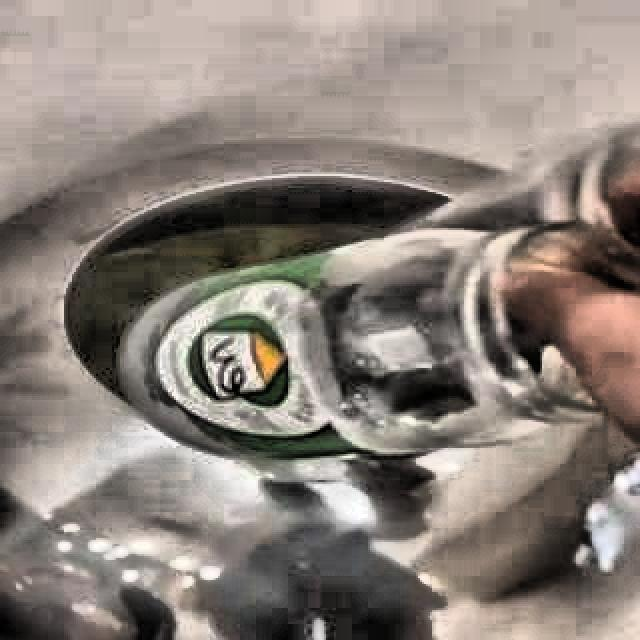glass: (120, 128, 640, 479)
